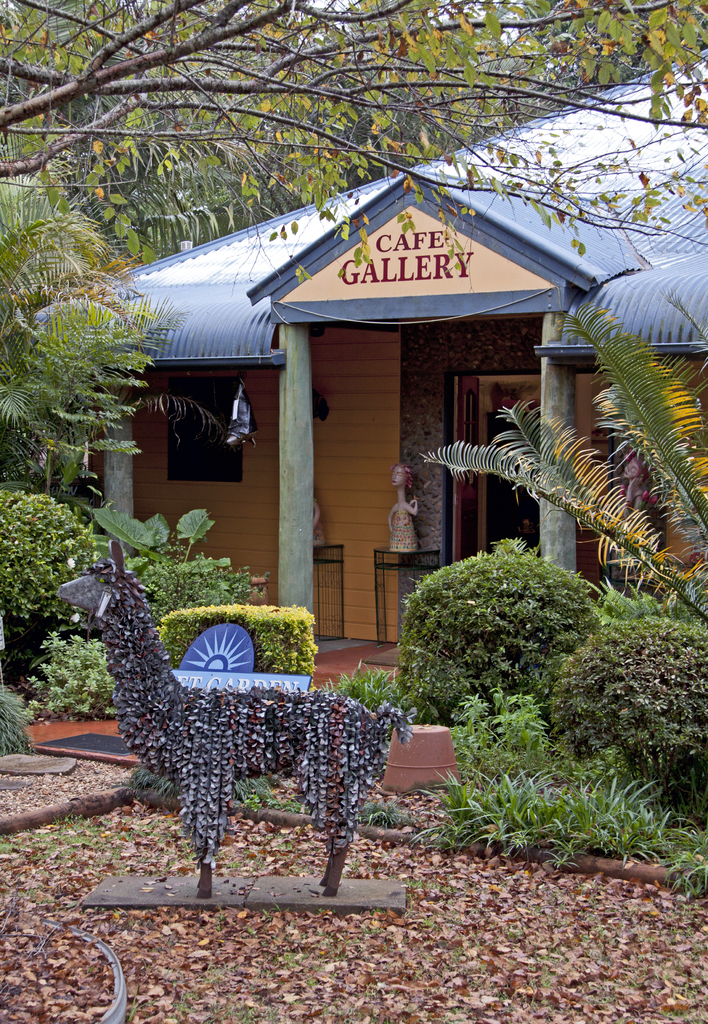Animal: (49, 538, 412, 898)
